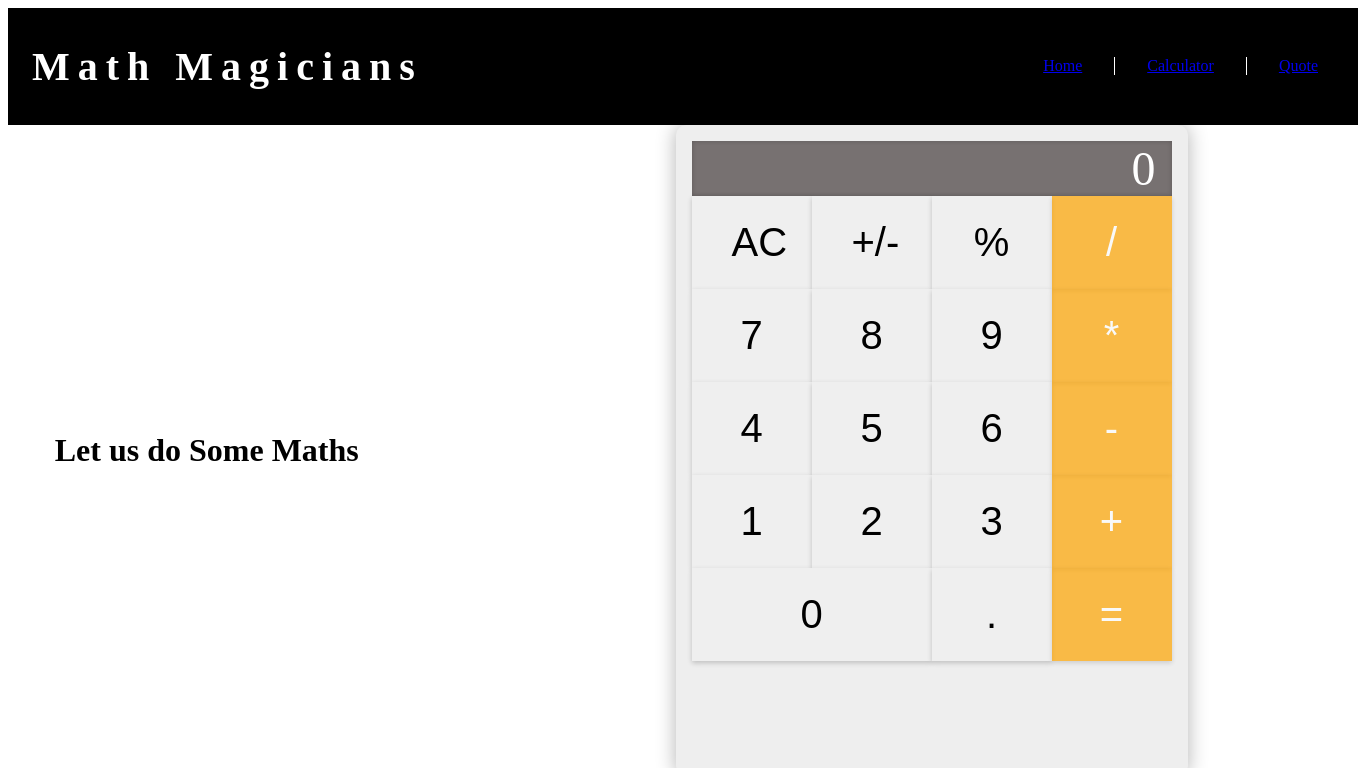
Test: Calculator › test nav bar Quote button interaction
Click the link "Quote" at [1298, 66], box 1279,57 -> 1318,74
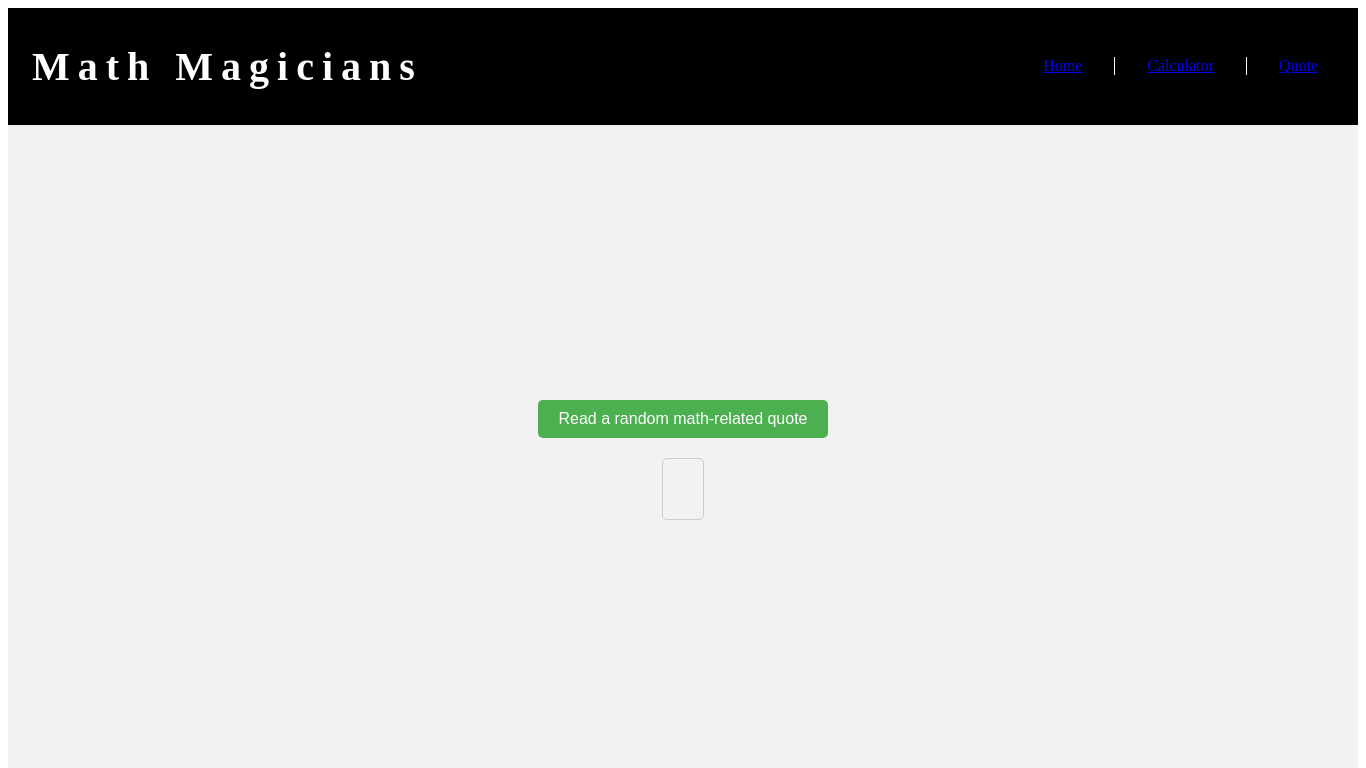
Now the number of buttons "Read a random math-related quote" is 1, box 538,400 -> 828,438
